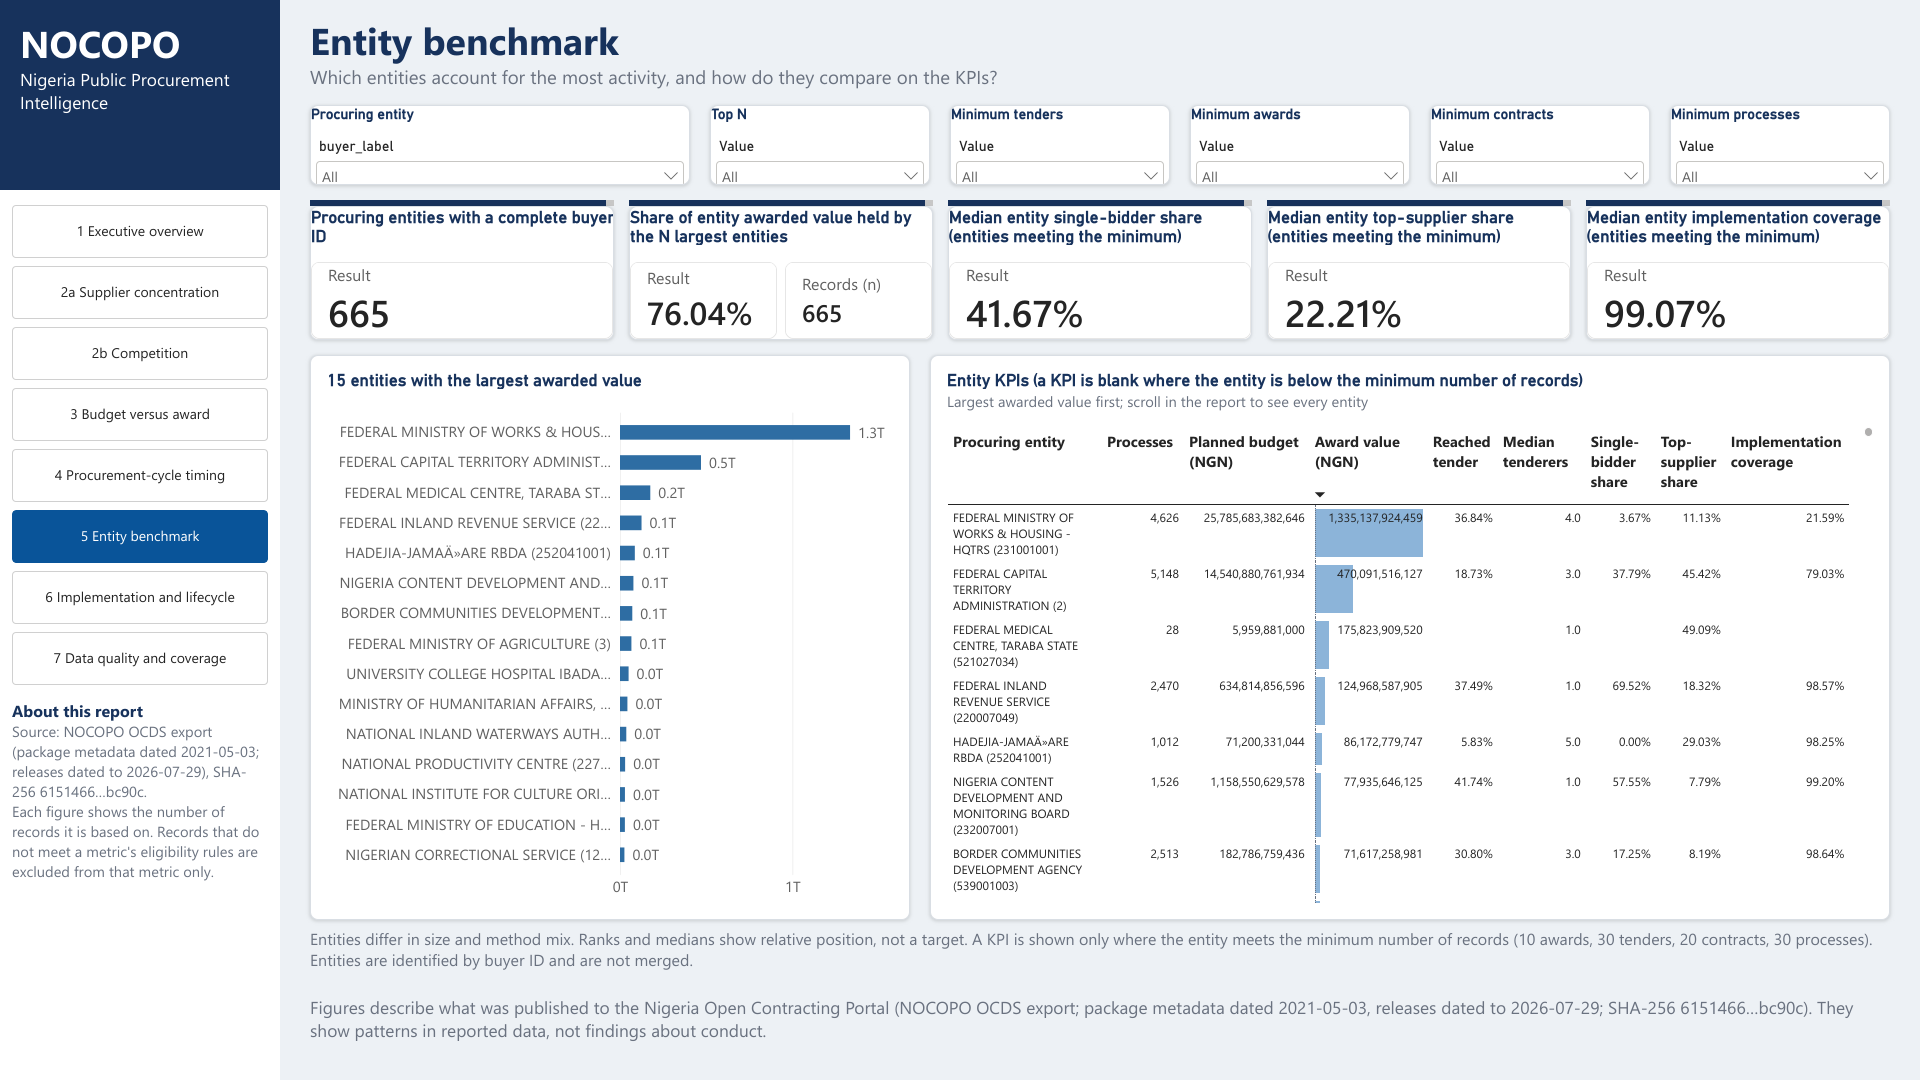

Layout of this report page (visuals, bound fields, positions):
{"tool":"powerbi","page":{"name":"5 Entity benchmark","canvas":[1920,1080],"ordinal":5},"visuals":[{"type":"textbox","box":[0,0,280,190],"z":0},{"type":"textbox","box":[0,190,280,890],"z":1},{"type":"textbox","box":[20,18,250,150],"z":2},{"type":"pageNavigator","box":[12,205,256,480],"z":3},{"type":"textbox","box":[12,700,256,360],"z":4},{"type":"textbox","box":[310,15,1580,80],"z":5},{"type":"textbox","box":[310,995,1580,70],"z":6},{"type":"slicer","title":"Procuring entity","fields":{"Values":["DimBuyer.buyer_label"]},"box":[310,105,380,80],"z":7},{"type":"slicer","title":"Top N","fields":{"Values":["Top N.Value"]},"box":[710,105,220,80],"z":8},{"type":"slicer","title":"Minimum tenders","fields":{"Values":["Min Competition n.Value"]},"box":[950,105,220,80],"z":9},{"type":"slicer","title":"Minimum awards","fields":{"Values":["Min Award n.Value"]},"box":[1190,105,220,80],"z":10},{"type":"slicer","title":"Minimum contracts","fields":{"Values":["Min Contract n.Value"]},"box":[1430,105,220,80],"z":11},{"type":"slicer","title":"Minimum processes","fields":{"Values":["Min Process n.Value"]},"box":[1670,105,220,80],"z":12},{"type":"textbox","box":[310,200,304,6],"z":13},{"type":"cardVisual","title":"Procuring entities with a complete buyer ID","fields":{"Data":["_Measures.Entities (n)"]},"box":[310,206,304,134],"z":14},{"type":"textbox","box":[629,200,304,6],"z":15},{"type":"cardVisual","title":"Share of entity awarded value held by the N largest entities","fields":{"Data":["_Measures.Top N Entity Share","_Measures.Entities (n)"]},"box":[629,206,304,134],"z":16},{"type":"textbox","box":[948,200,304,6],"z":17},{"type":"cardVisual","title":"Median entity single-bidder share (entities meeting the minimum)","fields":{"Data":["_Measures.Median Entity Single-Bidder Rate"]},"box":[948,206,304,134],"z":18},{"type":"textbox","box":[1267,200,304,6],"z":19},{"type":"cardVisual","title":"Median entity top-supplier share (entities meeting the minimum)","fields":{"Data":["_Measures.Median Entity Top-Supplier Share"]},"box":[1267,206,304,134],"z":20},{"type":"textbox","box":[1586,200,304,6],"z":21},{"type":"cardVisual","title":"Median entity implementation coverage (entities meeting the minimum)","fields":{"Data":["_Measures.Median Entity Implementation Coverage"]},"box":[1586,206,304,134],"z":22},{"type":"clusteredBarChart","title":"15 entities with the largest awarded value","fields":{"Category":["DimBuyer.buyer_label"],"Y":["_Measures.Entity Award Value (NGN)"]},"box":[310,355,600,565],"z":23},{"type":"tableEx","title":"Entity KPIs (a KPI is blank where the entity is below the minimum number of records)","fields":{"Values":["DimBuyer.buyer_label","_Measures.Entity Processes","_Measures.Entity Planned Budget (NGN)","_Measures.Entity Award Value (NGN)","_Measures.Entity Tender Reach Rate (min n)","_Measures.Entity Median Tenderers","_Measures.Entity Single-Bidder Rate (min n)","_Measures.Entity Top-Supplier Share (min n)","_Measures.Entity Implementation Coverage (min n)"]},"box":[930,355,960,565],"z":24},{"type":"textbox","box":[310,928,1580,62],"z":25}]}

Visuals, with their boxes in screenshot pixels (x1, y1, x2, y2), scaled from the page's 1920x1080 canvas onto the 1920x1080 screenshot:
textbox: x1=0 y1=0 x2=280 y2=190
textbox: x1=0 y1=190 x2=280 y2=1079
textbox: x1=20 y1=18 x2=270 y2=168
pageNavigator: x1=12 y1=205 x2=268 y2=685
textbox: x1=12 y1=700 x2=268 y2=1060
textbox: x1=310 y1=15 x2=1890 y2=95
textbox: x1=310 y1=995 x2=1890 y2=1065
"Procuring entity" slicer: x1=310 y1=105 x2=690 y2=185
"Top N" slicer: x1=710 y1=105 x2=930 y2=185
"Minimum tenders" slicer: x1=950 y1=105 x2=1170 y2=185
"Minimum awards" slicer: x1=1190 y1=105 x2=1410 y2=185
"Minimum contracts" slicer: x1=1430 y1=105 x2=1650 y2=185
"Minimum processes" slicer: x1=1670 y1=105 x2=1890 y2=185
textbox: x1=310 y1=200 x2=614 y2=206
"Procuring entities with a complete buyer ID" cardVisual: x1=310 y1=206 x2=614 y2=340
textbox: x1=629 y1=200 x2=933 y2=206
"Share of entity awarded value held by the N largest entities" cardVisual: x1=629 y1=206 x2=933 y2=340
textbox: x1=948 y1=200 x2=1252 y2=206
"Median entity single-bidder share (entities meeting the minimum)" cardVisual: x1=948 y1=206 x2=1252 y2=340
textbox: x1=1267 y1=200 x2=1571 y2=206
"Median entity top-supplier share (entities meeting the minimum)" cardVisual: x1=1267 y1=206 x2=1571 y2=340
textbox: x1=1586 y1=200 x2=1890 y2=206
"Median entity implementation coverage (entities meeting the minimum)" cardVisual: x1=1586 y1=206 x2=1890 y2=340
"15 entities with the largest awarded value" clusteredBarChart: x1=310 y1=355 x2=910 y2=920
"Entity KPIs (a KPI is blank where the entity is below the minimum number of records)" tableEx: x1=930 y1=355 x2=1890 y2=920
textbox: x1=310 y1=928 x2=1890 y2=990
